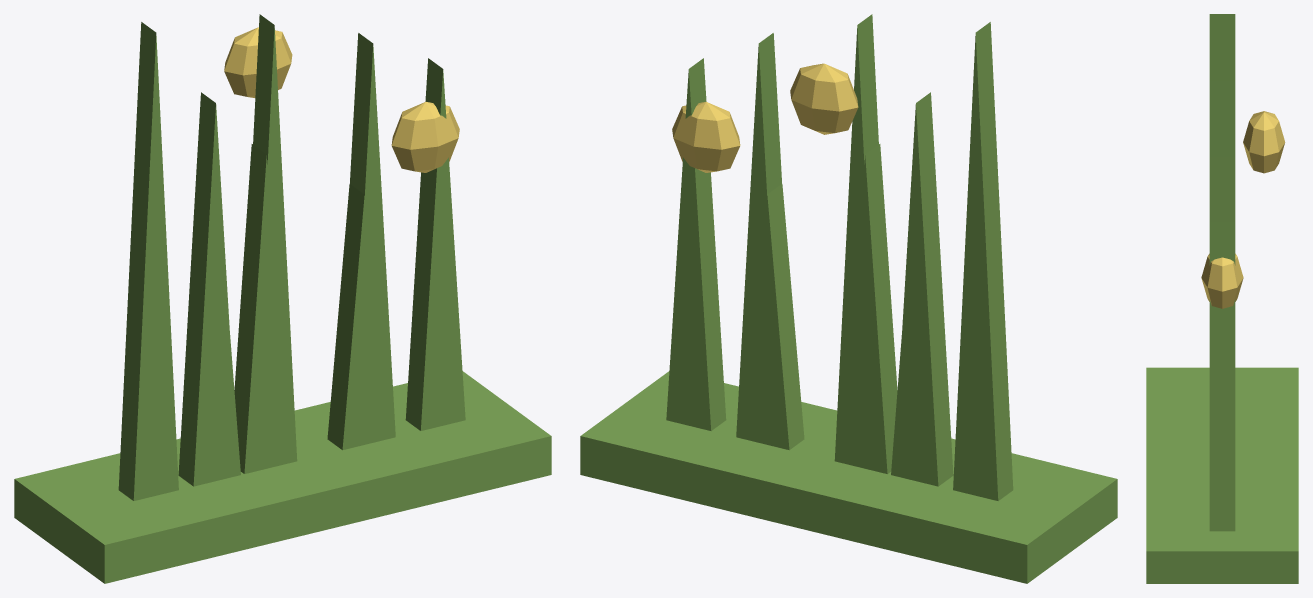
The model's file is GG-VEG-GRASS-COASTAL-TUFT-001_LOD_GAMEPLAY.glb.
The picture shows the model from 3 angles, left to right: view 1: azimuth 30°, elevation 25°; view 2: azimuth 150°, elevation 25°; view 3: azimuth 270°, elevation 25°; orthographic projection. The views are drawn at different scales.
Parts seen in each view (by area): view 1: GG_VEG_MOD_BASE_001, GG_VEG_MODULE_4, GG_VEG_MODULE_5, GG_VEG_MODULE_8, GG_VEG_MODULE_3, GG_VEG_MODULE_1, GG_VEG_MODULE_2, GG_VEG_MODULE_7, GG_VEG_ACCENT_1, GG_VEG_ACCENT_2, GG_VEG_MODULE_6; view 2: GG_VEG_MOD_BASE_001, GG_VEG_MODULE_4, GG_VEG_MODULE_8, GG_VEG_MODULE_3, GG_VEG_MODULE_2, GG_VEG_MODULE_5, GG_VEG_MODULE_1, GG_VEG_MODULE_7, GG_VEG_MODULE_6, GG_VEG_ACCENT_2, GG_VEG_ACCENT_1; view 3: GG_VEG_MOD_BASE_001, GG_VEG_MODULE_8, GG_VEG_MODULE_7, GG_VEG_ACCENT_2, GG_VEG_MODULE_4, GG_VEG_MODULE_2, GG_VEG_ACCENT_1.
Boxes of the visible parts, x1,y1,x2,y2 form: GG_VEG_MOD_BASE_001: [14, 371, 551, 583]; GG_VEG_MODULE_4: [118, 22, 178, 500]; GG_VEG_MODULE_5: [178, 92, 238, 486]; GG_VEG_MODULE_8: [405, 58, 465, 430]; GG_VEG_MODULE_3: [234, 144, 288, 473]; GG_VEG_MODULE_1: [327, 184, 386, 450]; GG_VEG_MODULE_2: [350, 33, 395, 442]; GG_VEG_MODULE_7: [253, 14, 297, 469]; GG_VEG_ACCENT_1: [391, 102, 459, 172]; GG_VEG_ACCENT_2: [224, 27, 292, 97]; GG_VEG_MODULE_6: [197, 204, 240, 484]; GG_VEG_MOD_BASE_001: [580, 371, 1117, 583]; GG_VEG_MODULE_4: [953, 22, 1013, 500]; GG_VEG_MODULE_8: [666, 58, 726, 430]; GG_VEG_MODULE_3: [843, 144, 897, 473]; GG_VEG_MODULE_2: [736, 33, 781, 447]; GG_VEG_MODULE_5: [893, 92, 953, 486]; GG_VEG_MODULE_1: [745, 184, 804, 450]; GG_VEG_MODULE_7: [834, 14, 879, 472]; GG_VEG_MODULE_6: [891, 189, 935, 485]; GG_VEG_ACCENT_2: [790, 63, 858, 134]; GG_VEG_ACCENT_1: [672, 102, 740, 172]; GG_VEG_MOD_BASE_001: [1146, 367, 1298, 583]; GG_VEG_MODULE_8: [1209, 221, 1235, 531]; GG_VEG_MODULE_7: [1209, 80, 1235, 156]; GG_VEG_ACCENT_2: [1243, 111, 1285, 173]; GG_VEG_MODULE_4: [1209, 14, 1235, 80]; GG_VEG_MODULE_2: [1209, 157, 1235, 221]; GG_VEG_ACCENT_1: [1201, 253, 1243, 308].
Bounding box in the file's own units: 0.72 × 0.7732 × 0.252.
